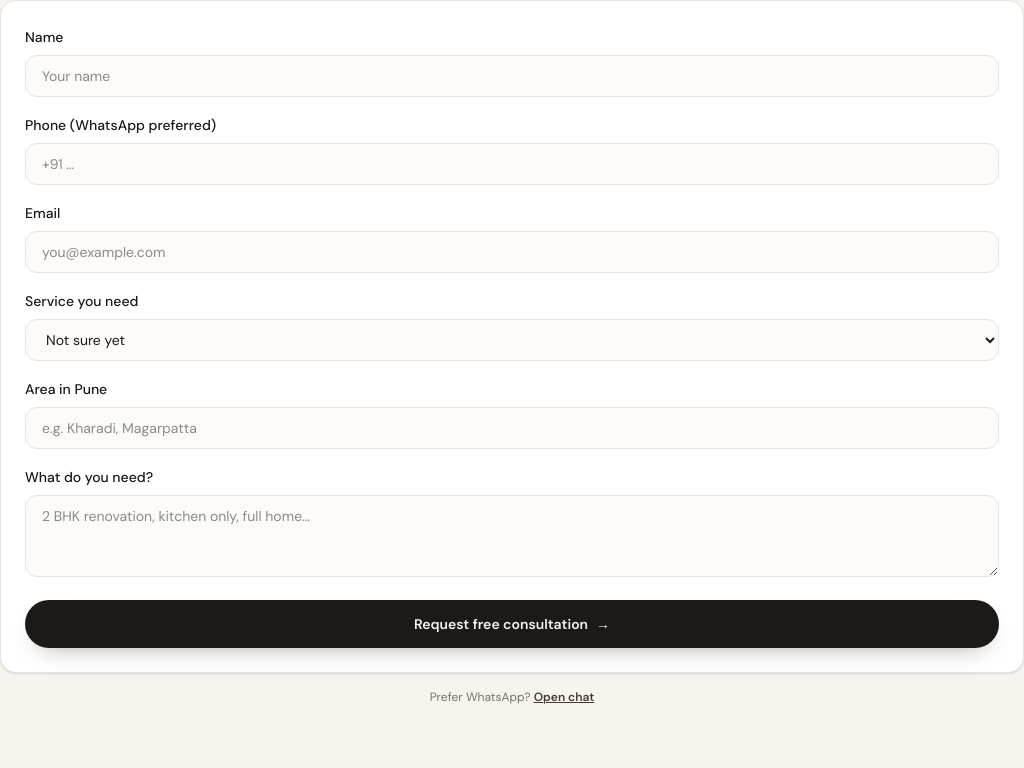
Test: LeadForm › shows server error when API returns not ok
In the field labelled "Name": (512, 76) [25,55,999,97], type "A"
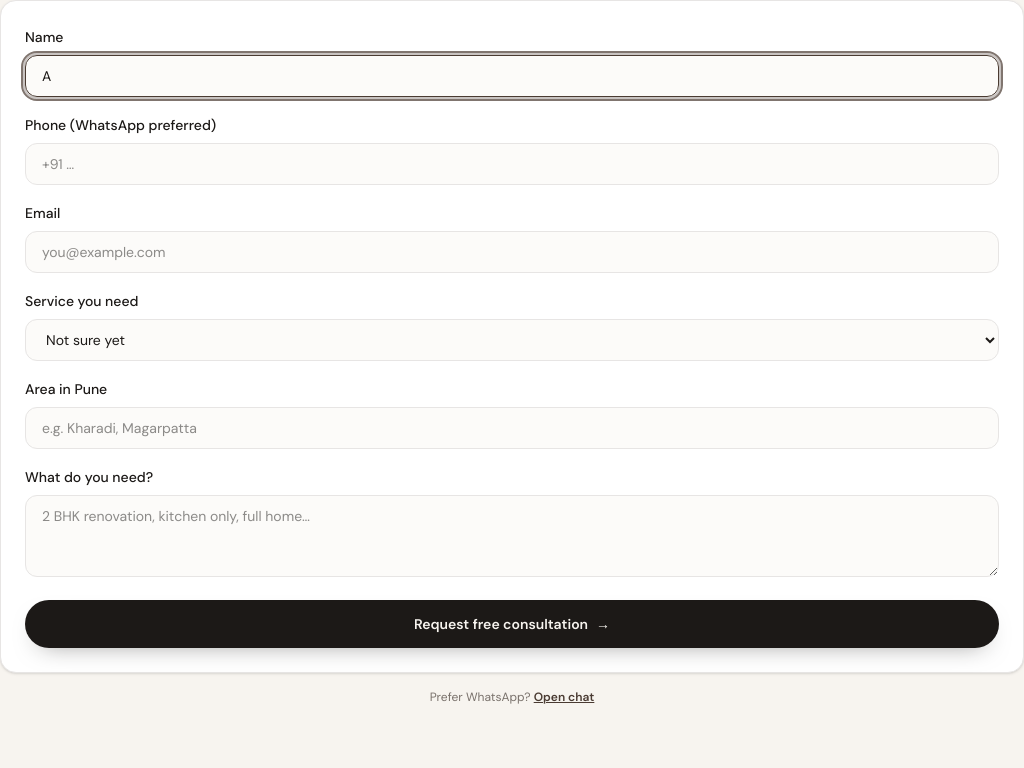
In the field labelled "Phone (WhatsApp preferred)": (512, 164) [25,143,999,185], type "1"
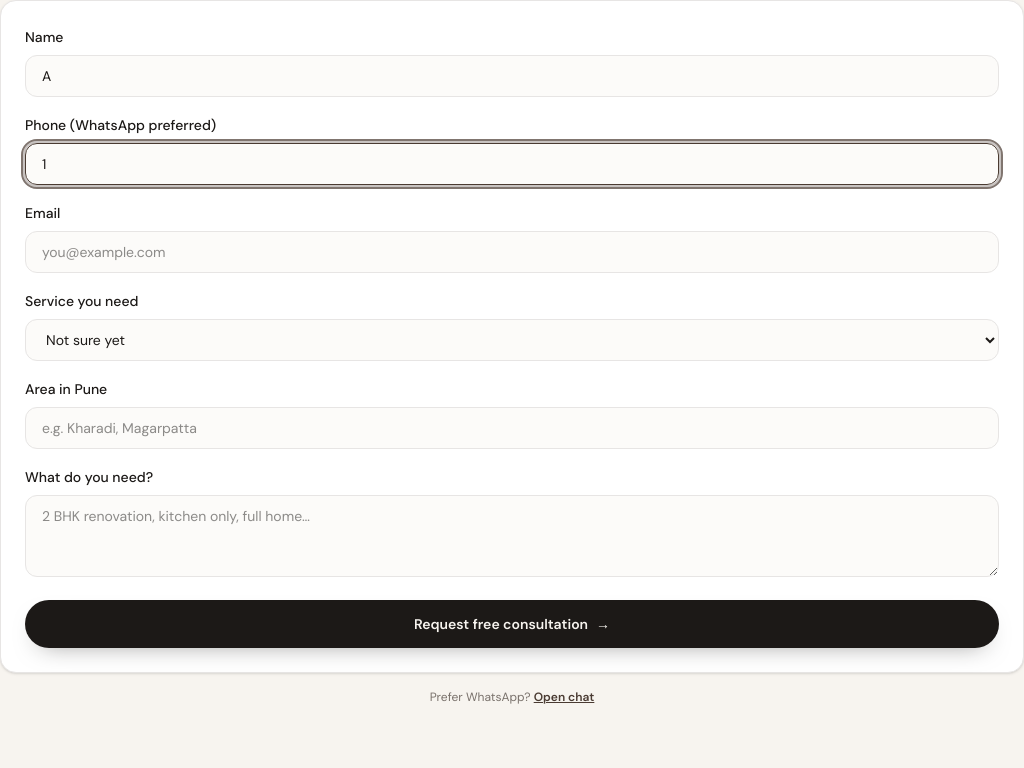
Click the button "Request free consultation →": (512, 624) [25,600,999,648]
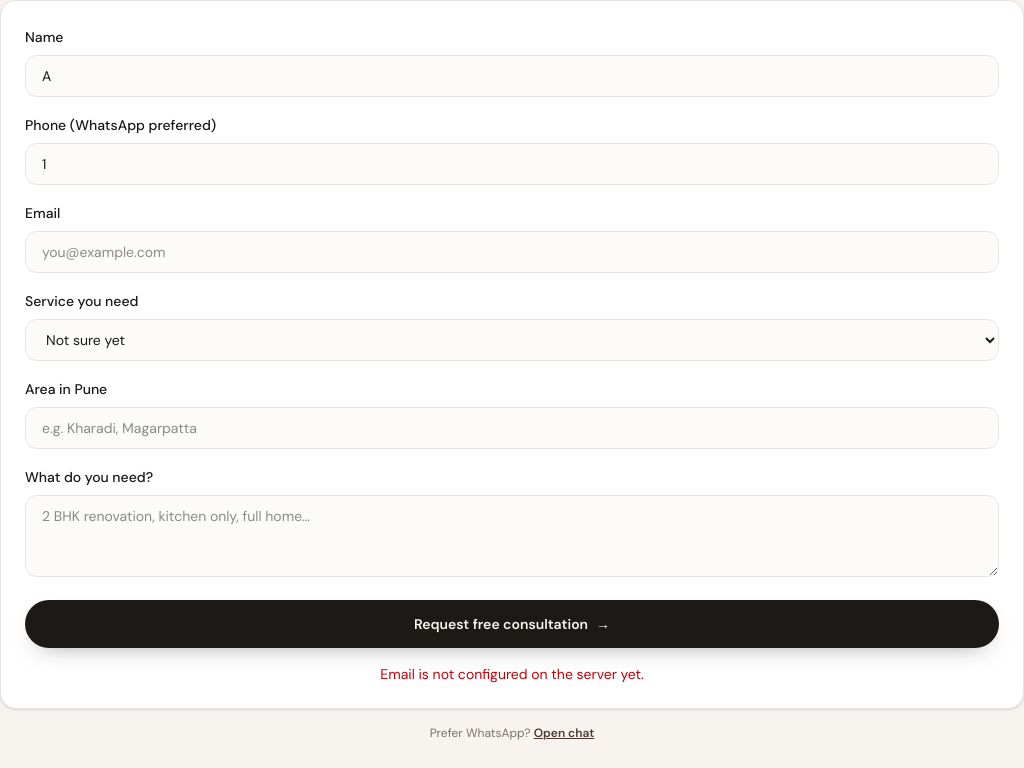
expect the message shows "not configured on the server": met, box [380,665,644,683]
